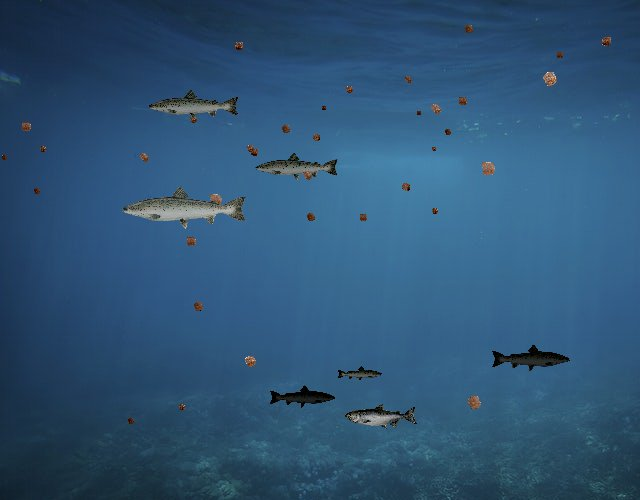Fish: (120, 184, 249, 230), (147, 88, 241, 122), (254, 151, 340, 182), (490, 343, 571, 372), (345, 404, 418, 430), (269, 384, 337, 409), (337, 366, 384, 382)
Pellet: (238, 349, 263, 374), (459, 20, 478, 39), (341, 81, 358, 98), (174, 400, 189, 415), (124, 414, 138, 428), (428, 204, 442, 218), (36, 142, 50, 156)
